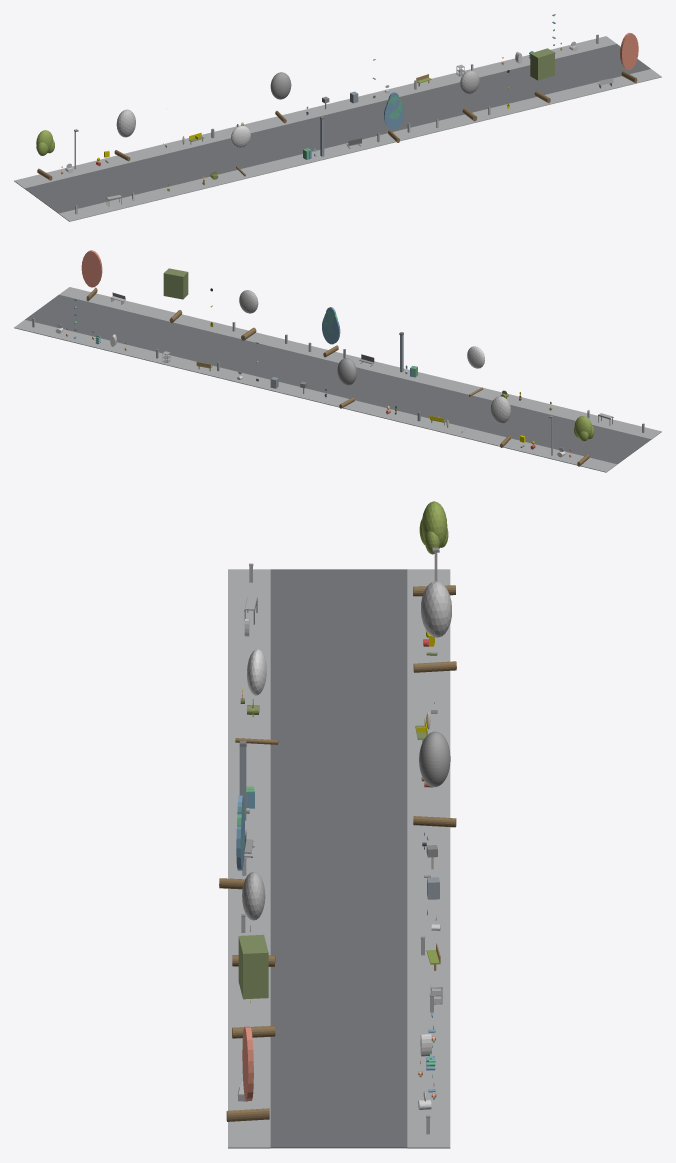
The picture shows the model from 3 angles, top to bottom: view 1: azimuth 30°, elevation 25°; view 2: azimuth 150°, elevation 25°; view 3: azimuth 270°, elevation 25°; orthographic projection. The views are drawn at different scales.
Parts seen in each view (by area): view 1: road_slab, sidewalk_left, sidewalk_right, inst_0024, inst_0025, inst_0022, inst_0021, inst_0019, inst_0018, inst_0023, inst_0020; view 2: road_slab, sidewalk_right, sidewalk_left, inst_0024, inst_0025, inst_0022, inst_0019, inst_0021, inst_0018, inst_0023, inst_0020; view 3: road_slab, sidewalk_right, sidewalk_left, inst_0024, inst_0019, inst_0021, inst_0018, inst_0025, inst_0023, inst_0020.
Boxes of the visible parts, x1,y1,x2,y2 form: road_slab: [24, 44, 650, 213]; sidewalk_left: [59, 69, 661, 221]; sidewalk_right: [14, 36, 616, 188]; inst_0024: [530, 48, 554, 103]; inst_0025: [620, 33, 638, 83]; inst_0022: [384, 92, 404, 142]; inst_0021: [270, 72, 291, 123]; inst_0019: [114, 109, 135, 161]; inst_0018: [36, 130, 54, 180]; inst_0023: [460, 70, 479, 121]; inst_0020: [231, 125, 250, 176]; road_slab: [25, 295, 651, 464]; sidewalk_right: [14, 320, 616, 472]; sidewalk_left: [59, 287, 661, 439]; inst_0024: [163, 268, 188, 323]; inst_0025: [81, 250, 102, 301]; inst_0022: [322, 307, 340, 357]; inst_0019: [490, 396, 511, 447]; inst_0021: [337, 358, 356, 408]; inst_0018: [574, 416, 594, 466]; inst_0023: [239, 290, 258, 340]; inst_0020: [467, 346, 484, 396]; road_slab: [270, 569, 407, 1148]; sidewalk_right: [407, 569, 450, 1148]; sidewalk_left: [228, 569, 270, 1148]; inst_0024: [232, 934, 275, 1038]; inst_0019: [413, 581, 456, 672]; inst_0021: [413, 731, 456, 827]; inst_0018: [413, 501, 455, 596]; inst_0025: [226, 1026, 269, 1121]; inst_0023: [232, 871, 275, 966]; inst_0020: [235, 649, 278, 744].
Bounding box in the file's own units: 80 × 6.08 × 13.9.
